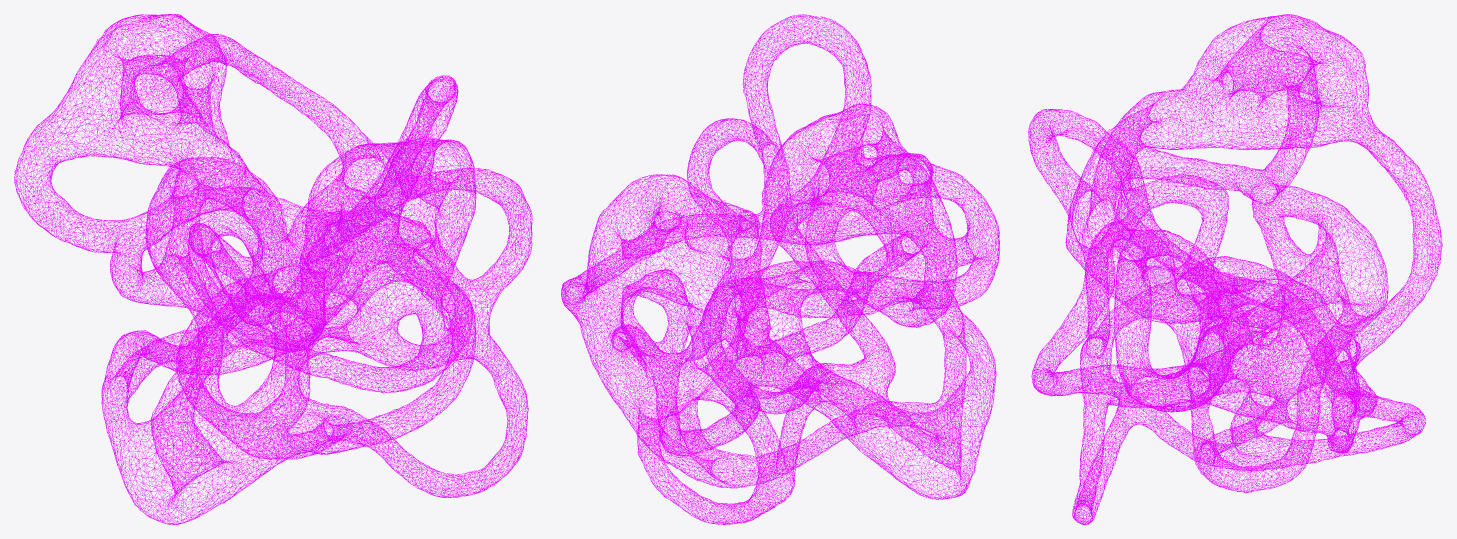
File: escultura.glb
3 renders of one model, left to right at view 1: azimuth 30°, elevation 25°; view 2: azimuth 150°, elevation 25°; view 3: azimuth 270°, elevation 25°, orthographic. The views are drawn at different scales.
Visible parts, largest first — view 1: ESC11 grandeBB; view 2: ESC11 grandeBB; view 3: ESC11 grandeBB.
Part boxes in pixels (<box>): ESC11 grandeBB: <box>14,14,532,524</box>; ESC11 grandeBB: <box>561,14,999,524</box>; ESC11 grandeBB: <box>1028,14,1442,524</box>.
Size of the model in its own units: 1.85 by 1.89 by 1.74.
